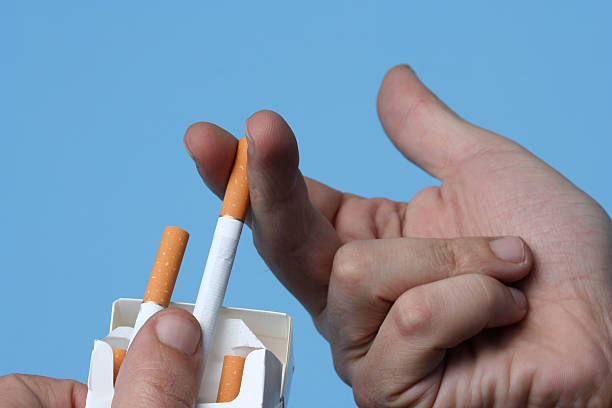cigarette: (81, 296, 297, 408), (192, 137, 251, 404), (125, 224, 190, 355), (215, 354, 245, 402), (111, 347, 126, 387)
